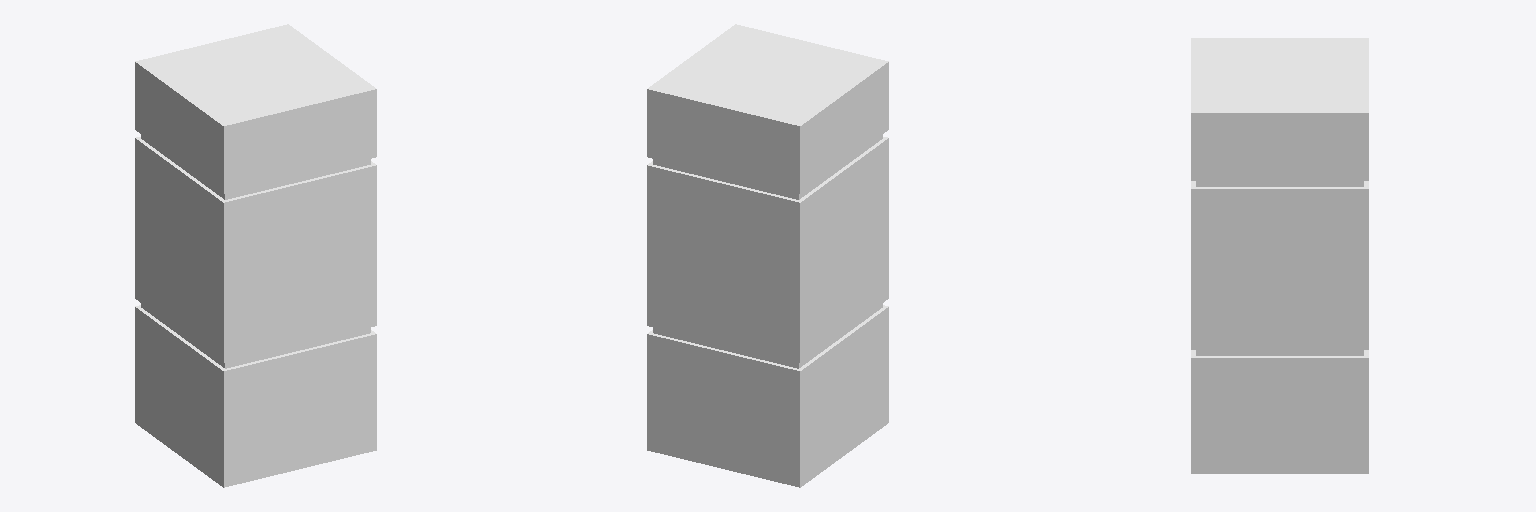
The model's file is PillarDarker.obj.
The picture shows the model from 3 angles: view 1: azimuth 30°, elevation 25°; view 2: azimuth 150°, elevation 25°; view 3: azimuth 270°, elevation 25°; orthographic projection.
Parts seen in each view (by area): view 1: PillarDarker; view 2: PillarDarker; view 3: PillarDarker.
Boxes of the visible parts, <box> form: PillarDarker: <box>135,24,376,487</box>; PillarDarker: <box>647,24,888,487</box>; PillarDarker: <box>1191,38,1368,473</box>.
Bounding box in the file's own units: 40 × 90 × 40.